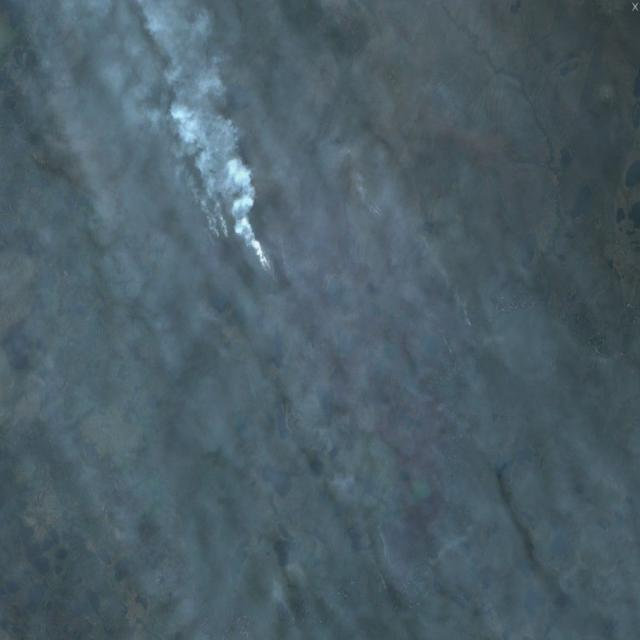fire: (206, 205, 281, 288)
